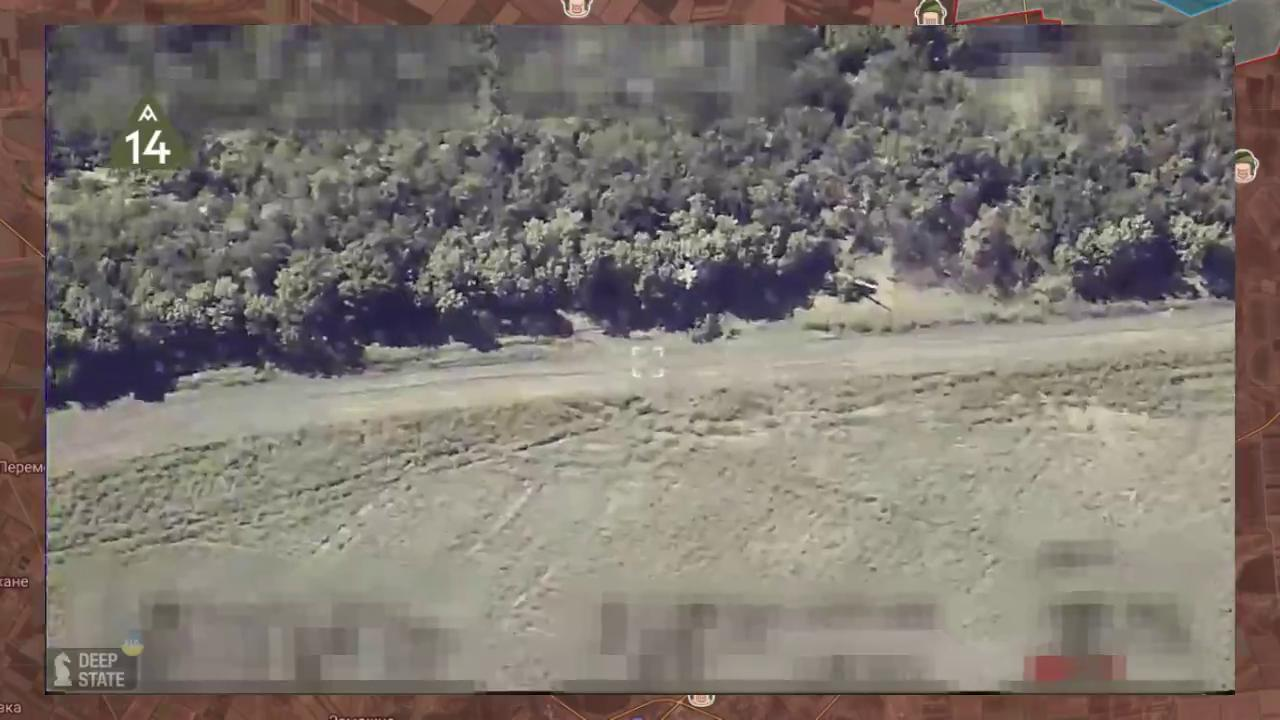tank: (811, 253, 883, 313)
